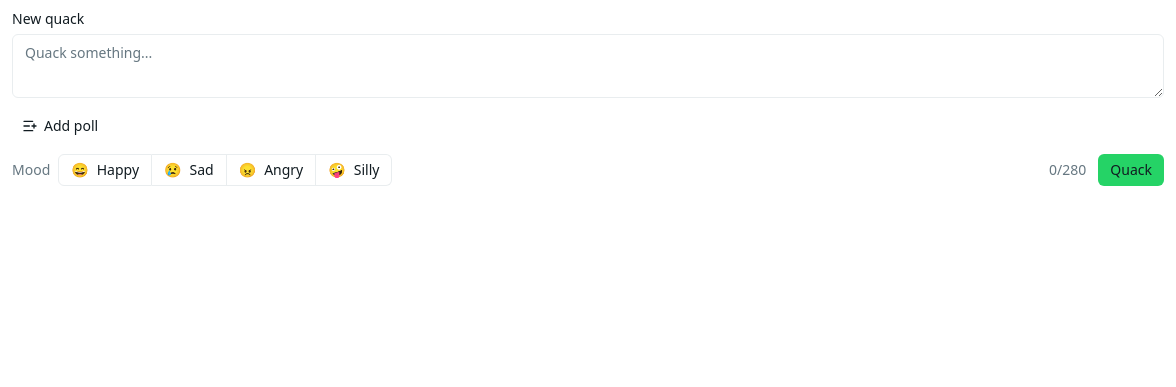
it: QuackForm › poll › adds a poll with two labelled answers that can't be removed
This screenshot has width=1176, height=387.
Click the button "Add poll": x=60, y=126 left=12, top=110, right=108, bottom=142
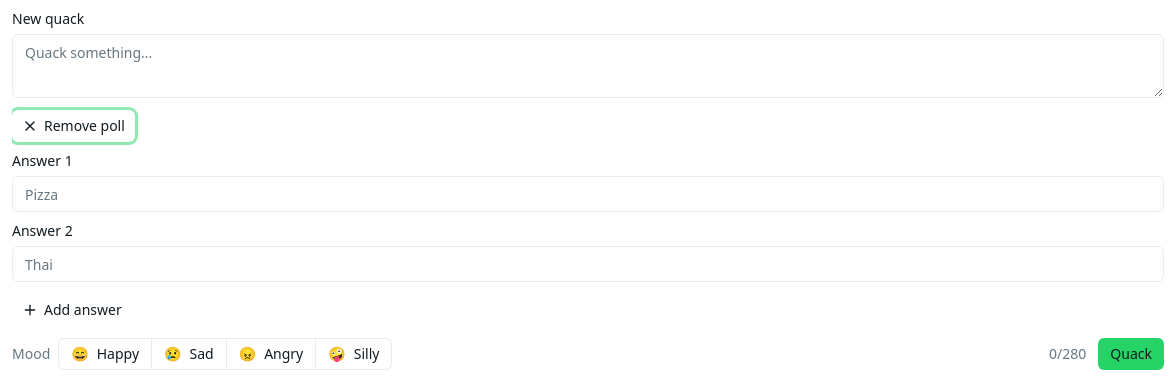
Expected: the field labelled "Answer 1" is empty, left=12, top=176, right=1164, bottom=212
Expected: the button "Remove poll" is shown, left=12, top=110, right=135, bottom=142
